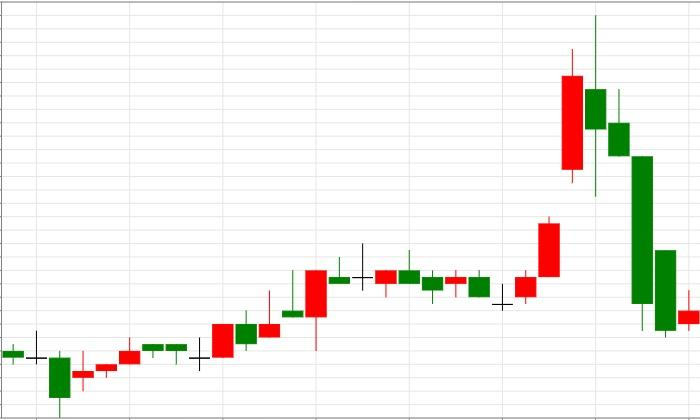three_black_crows_fall: (492, 15, 654, 331)
three_white_soldiers_rise: (375, 49, 584, 311)
